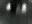person: (15, 4, 21, 17), (23, 4, 28, 17), (6, 3, 13, 12)
